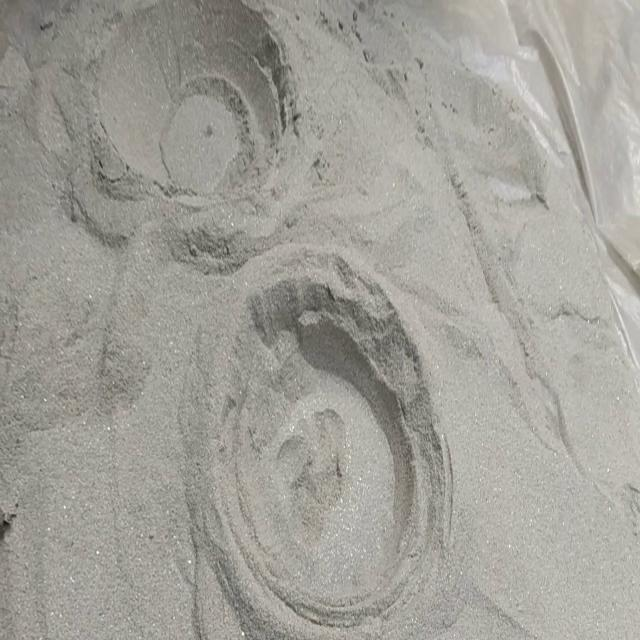C20: (220, 271, 443, 627), (98, 0, 295, 209)
